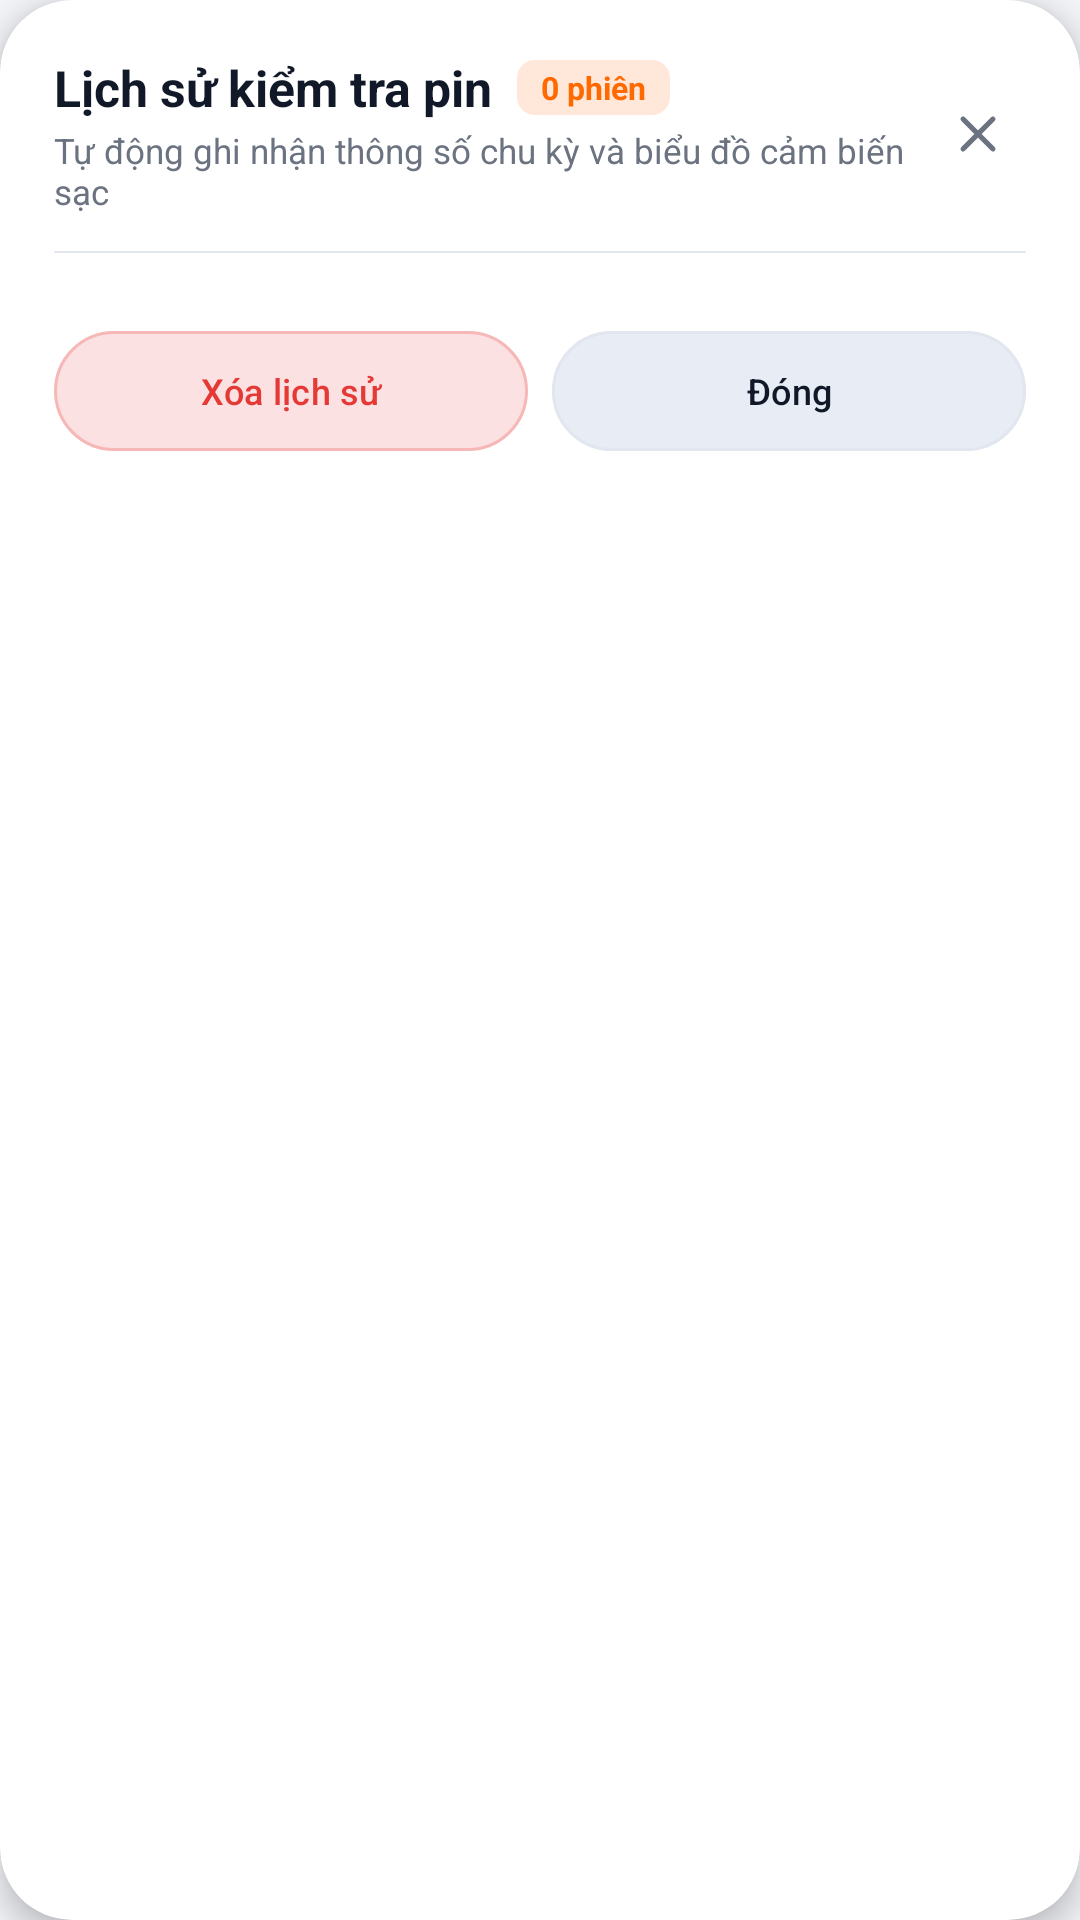

Locate icon controls on the screen. Image size 1080x1920, boxes as (x1, y1, x2, y2).
close: (960, 116, 996, 152)
